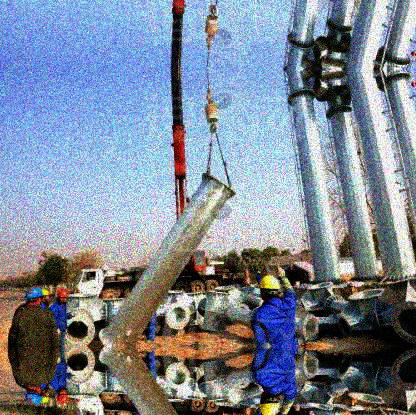helmet: (255, 273, 282, 302), (258, 390, 282, 415), (56, 289, 70, 305)
